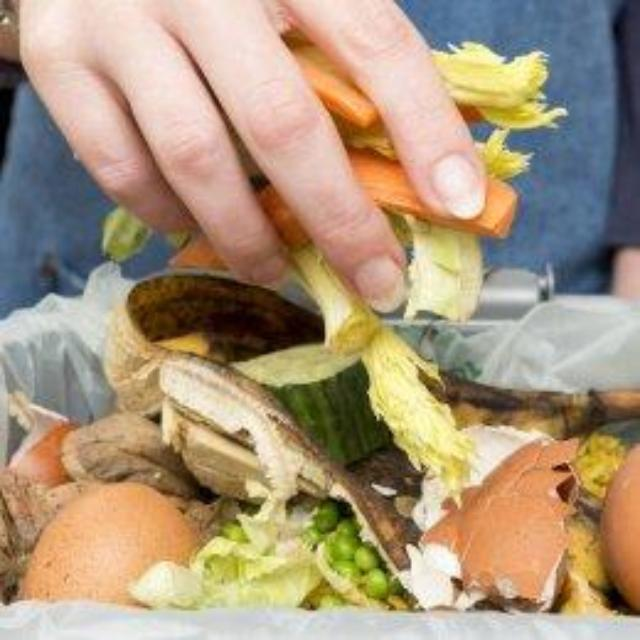Garbage: (2, 279, 640, 616)
